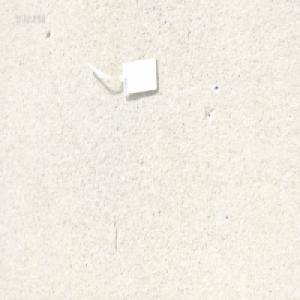LuggageTag: (86, 52, 159, 99)
